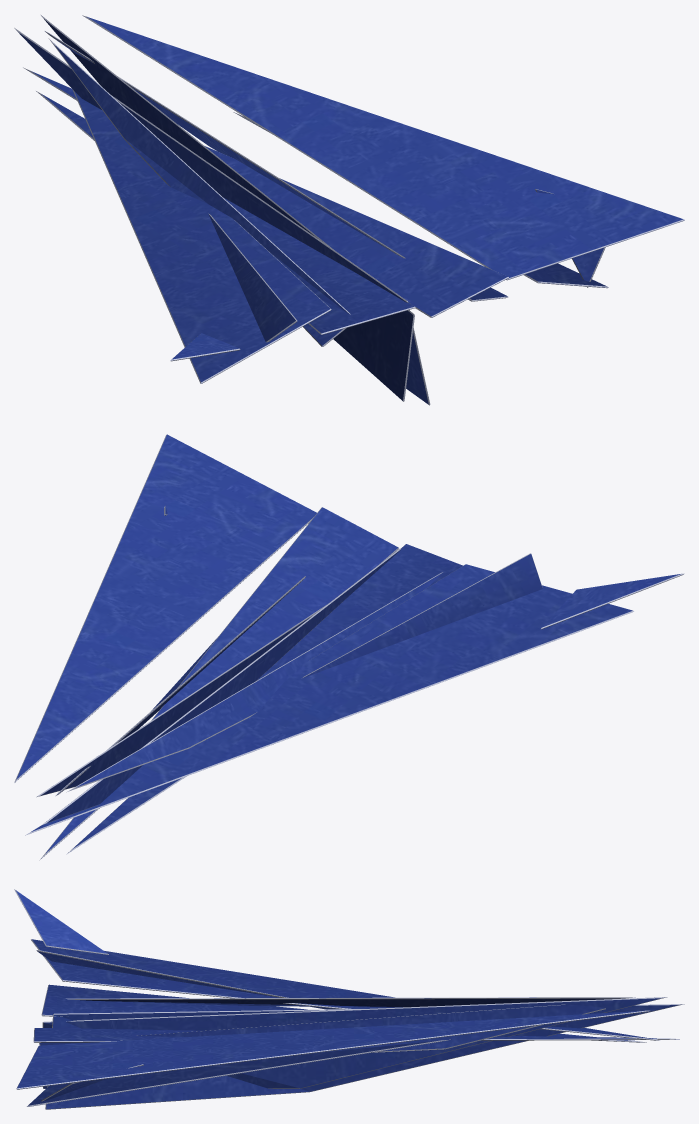
The model's file is plane_damaged.glb.
3 views of the same model, one above another, from view 1: azimuth 30°, elevation 25°; view 2: azimuth 150°, elevation 25°; view 3: azimuth 270°, elevation 25° (orthographic). The views are drawn at different scales.
Parts seen in each view (by area): view 1: wing_r, wing_l, plane; view 2: wing_r, wing_l, plane; view 3: wing_r, wing_l, plane.
Boxes of the visible parts, x1,y1,x2,y2 form: wing_r: [23, 15, 684, 317]; wing_l: [36, 38, 415, 383]; plane: [14, 15, 430, 405]; wing_r: [14, 434, 398, 860]; wing_l: [25, 544, 684, 854]; plane: [36, 548, 400, 824]; wing_r: [16, 1004, 679, 1106]; wing_l: [14, 889, 660, 1042]; plane: [42, 997, 684, 1109].
Bounding box in the file's own units: 0.2255 × 0.0589 × 0.3018.
1 material, 1 textured.
